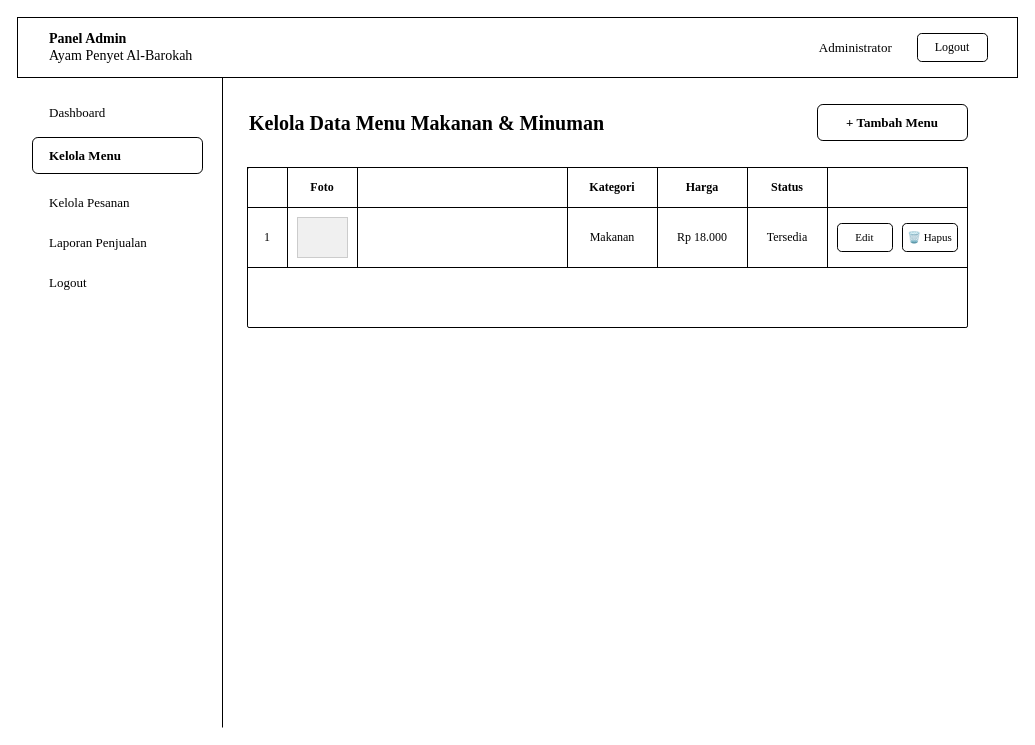
Some shapes in this 1035 by 745 pixel diagram are drawn without their labels. Each missing label, with the box of its shape:
Aksi: (826, 166, 968, 208)
Ayam Penyet Biasa: (356, 206, 568, 268)
Nama Menu: (356, 166, 568, 208)
No: (246, 166, 288, 208)
